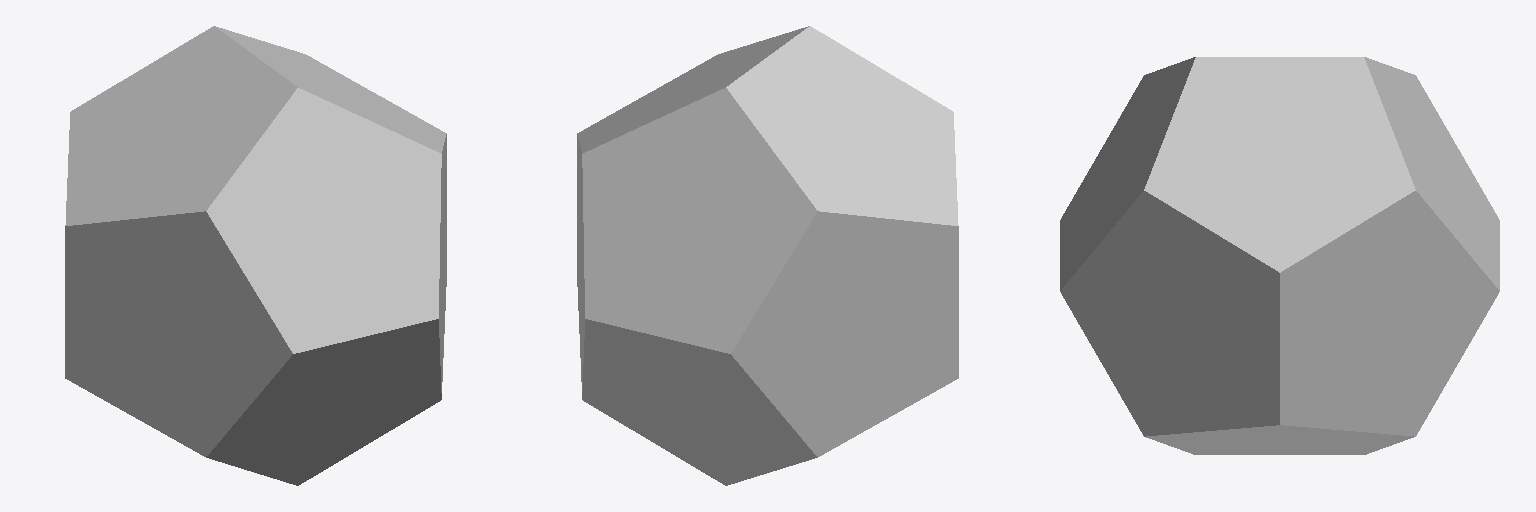
Rendered from dodecahedron.obj.
The picture shows the model from 3 angles: view 1: azimuth 30°, elevation 25°; view 2: azimuth 150°, elevation 25°; view 3: azimuth 270°, elevation 25°; orthographic projection.
Parts seen in each view (by area): view 1: Dodecahedron; view 2: Dodecahedron; view 3: Dodecahedron.
Boxes of the visible parts, <box> form: Dodecahedron: <box>65,26,446,485</box>; Dodecahedron: <box>577,26,958,485</box>; Dodecahedron: <box>1060,57,1499,454</box>.
Bounding box in the file's own units: 10 × 10 × 10.